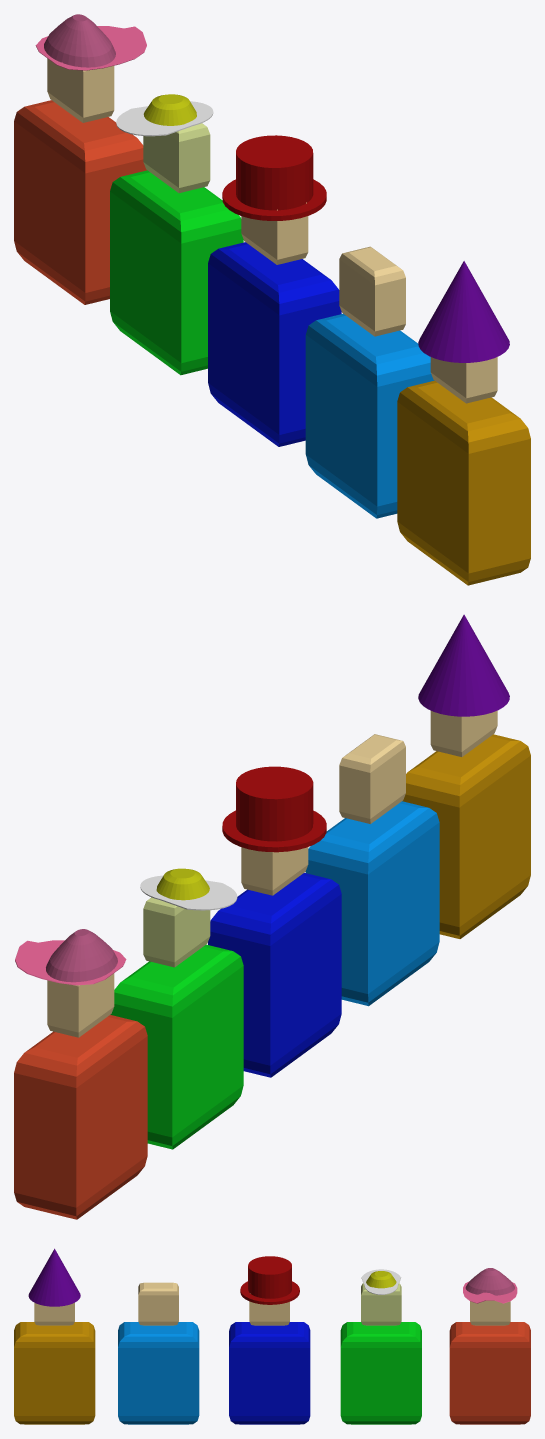
Rendered from Adamaks.fbx.
3 views of the same model, one above another, from view 1: azimuth 30°, elevation 25°; view 2: azimuth 150°, elevation 25°; view 3: azimuth 270°, elevation 25° (orthographic). The views are drawn at different scales.
Visible parts, largest first — view 1: yellow, blueWithHat, green, orange, blue, Circle, Cone, head, head.002, head.004, Circle.003, head.001 (+4 smaller); view 2: orange, blueWithHat, blue, green, yellow, Circle, Cone, head, head.002, head.004, Circle.003, head.001 (+4 smaller); view 3: blueWithHat, blue, green, orange, yellow, Circle, head, Cone, head.002, head.004, Circle.003, head.001 (+4 smaller).
Part boxes in pixels (x1,y1,x2,y2): yellow: (397, 380, 530, 585); blueWithHat: (208, 242, 341, 446); green: (110, 170, 243, 375); orange: (14, 100, 146, 304); blue: (305, 313, 434, 518); Circle: (222, 135, 326, 220); Cone: (418, 261, 509, 362); head: (339, 246, 405, 336); head.002: (143, 123, 210, 192); head.004: (47, 58, 114, 122); Circle.003: (44, 14, 115, 67); head.001: (241, 202, 308, 264); orange: (14, 1015, 147, 1219); blueWithHat: (208, 873, 341, 1077); blue: (305, 801, 439, 1006); green: (110, 944, 243, 1149); yellow: (402, 734, 530, 938); Circle: (222, 766, 326, 852); Cone: (418, 614, 509, 716); head: (339, 734, 405, 823); head.002: (143, 897, 210, 967); head.004: (47, 973, 114, 1037); Circle.003: (46, 929, 117, 982); head.001: (241, 847, 308, 895); blueWithHat: (229, 1322, 310, 1424); blue: (118, 1322, 199, 1424); green: (340, 1322, 421, 1424); orange: (449, 1322, 530, 1424); yellow: (14, 1322, 95, 1424); Circle: (240, 1256, 299, 1304); head: (138, 1282, 178, 1325); Cone: (28, 1248, 80, 1306); head.002: (361, 1283, 401, 1325); head.004: (470, 1300, 510, 1325); Circle.003: (465, 1268, 514, 1295); head.001: (249, 1293, 289, 1325).
Bounding box in the file's own units: 370 × 924 × 2545.
